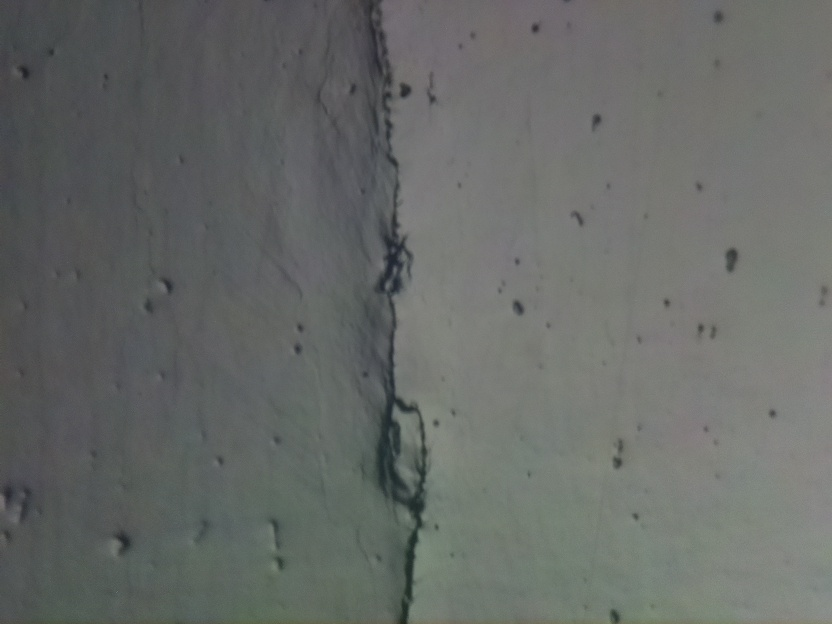crack: (370, 0, 427, 622)
